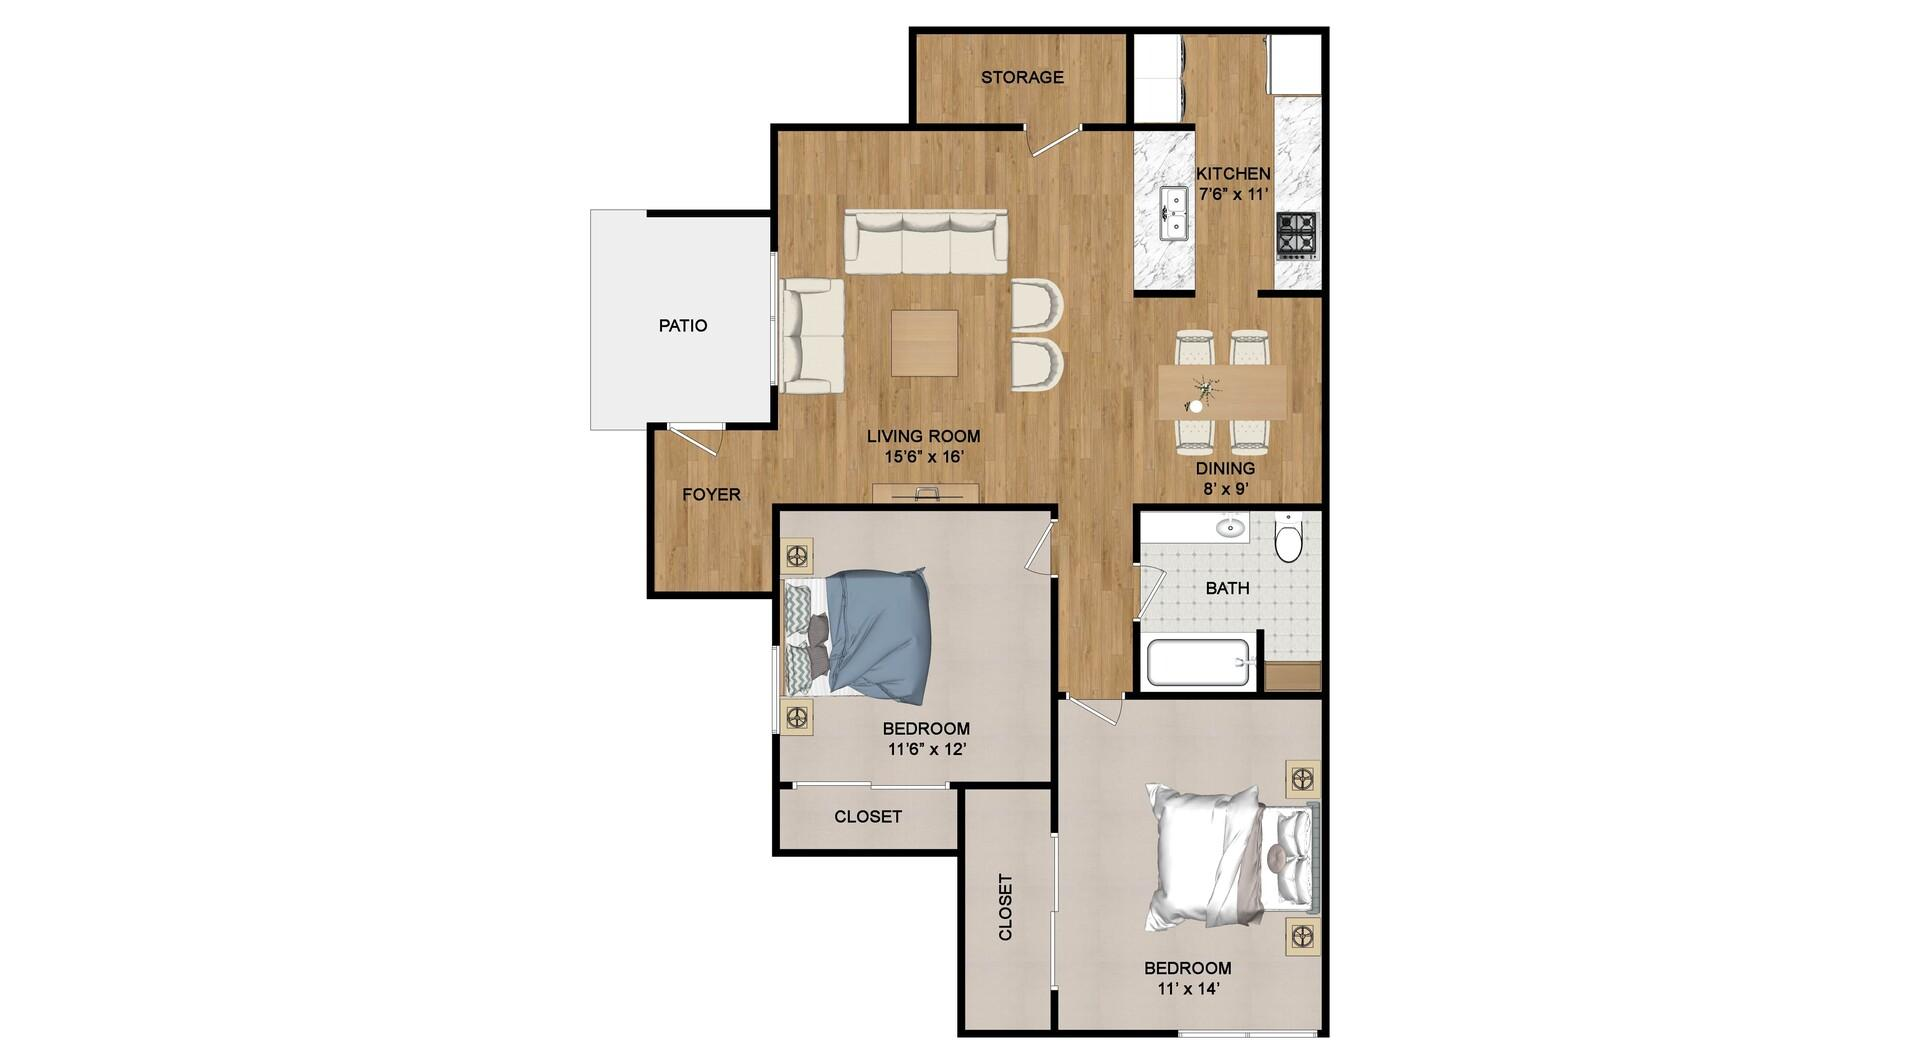room: (775, 126, 1323, 507), (1054, 696, 1321, 1030), (777, 514, 1052, 784), (1138, 507, 1324, 694), (960, 785, 1053, 1033), (651, 425, 774, 596), (913, 31, 1129, 124), (775, 786, 960, 850)
